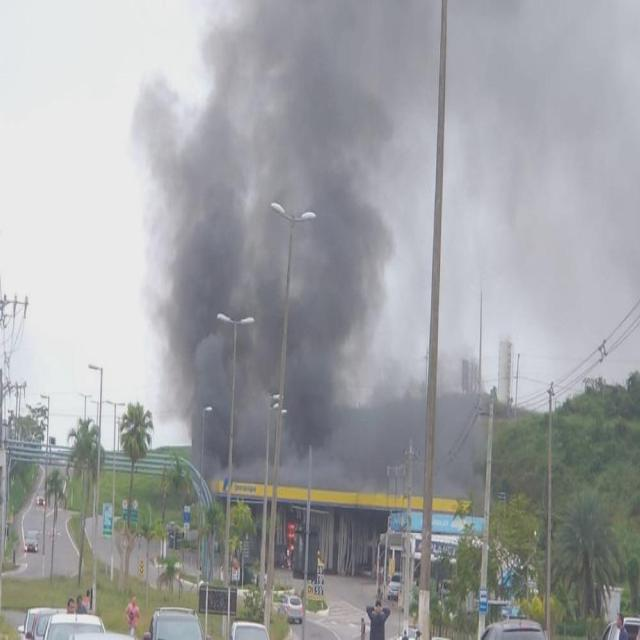Fire: (284, 523, 295, 543)
